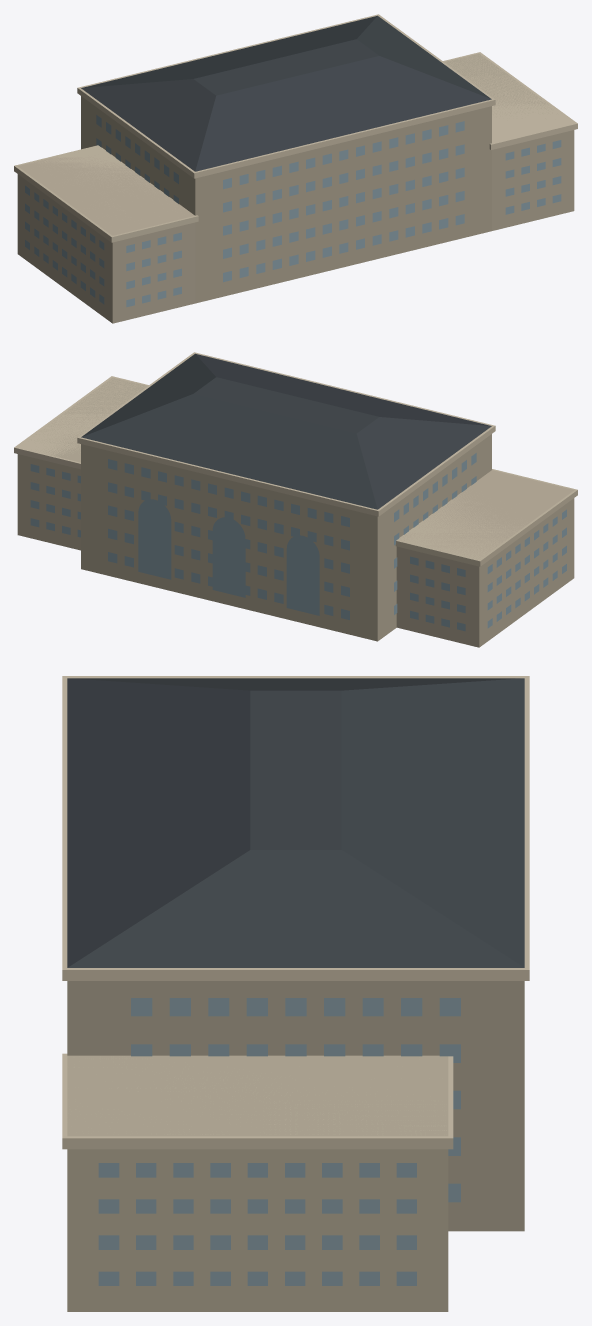
The picture shows the model from 3 angles, top to bottom: view 1: azimuth 30°, elevation 25°; view 2: azimuth 150°, elevation 25°; view 3: azimuth 270°, elevation 25°; orthographic projection. The views are drawn at different scales.
Visible parts, largest first — view 1: midtown-terminal-lod1; view 2: midtown-terminal-lod1; view 3: midtown-terminal-lod1.
Part boxes in pixels (left/top/right/bottom): midtown-terminal-lod1: left=14, top=14, right=577, bottom=323; midtown-terminal-lod1: left=14, top=352, right=577, bottom=647; midtown-terminal-lod1: left=62, top=676, right=529, bottom=1311.
Size of the model in its own units: 155 by 50.4 by 67.48.
